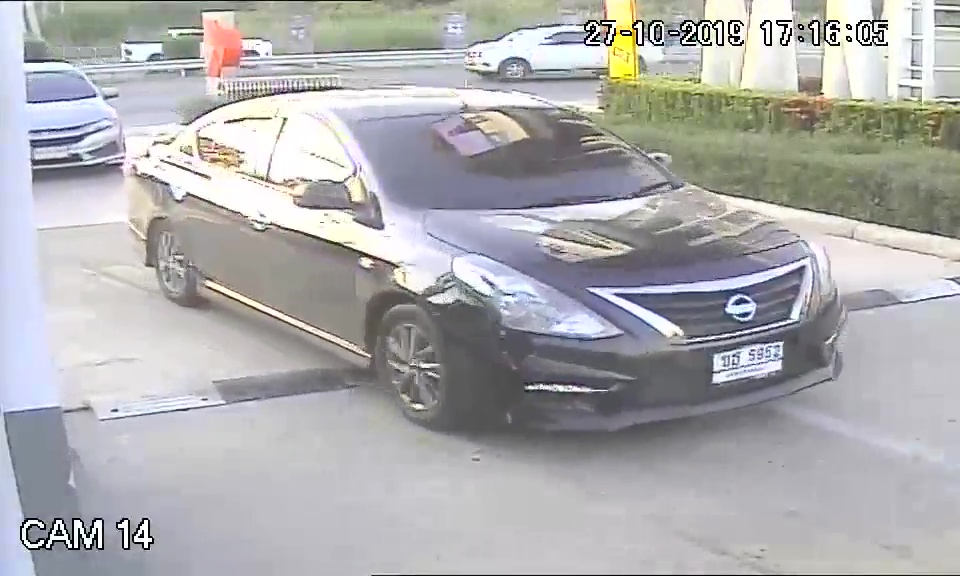sedan: (129, 82, 851, 440)
